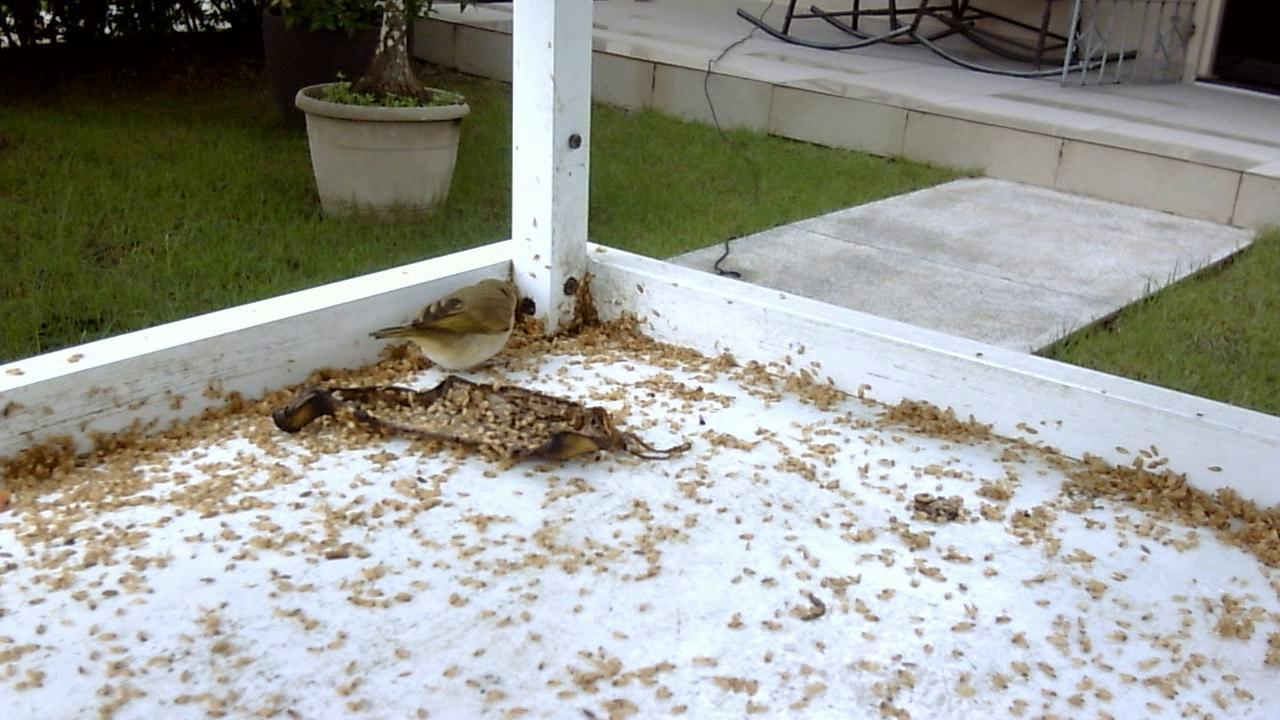canario_do_amazonas: (362, 269, 528, 403)
